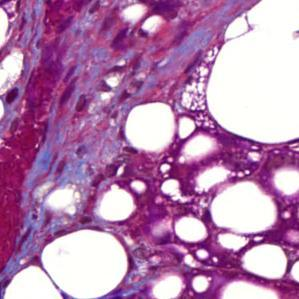steatosis: (39, 230, 129, 299)
